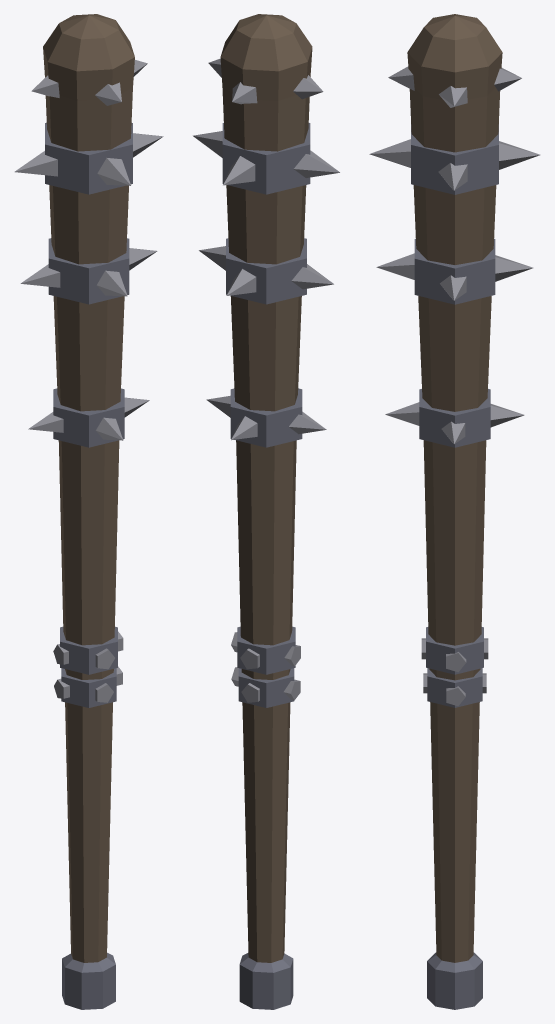
Rendered from hammer_hammer_16.glb.
3 renders of one model, left to right at view 1: azimuth 30°, elevation 25°; view 2: azimuth 150°, elevation 25°; view 3: azimuth 270°, elevation 25°, orthographic.
Parts seen in each view (by area): view 1: hammer_16; view 2: hammer_16; view 3: hammer_16.
Part boxes in pixels (left/top/right/bottom): hammer_16: left=14, top=14, right=163, bottom=1009; hammer_16: left=193, top=14, right=339, bottom=1009; hammer_16: left=369, top=14, right=540, bottom=1009.
Size of the model in its own units: 13.82 by 87.67 by 13.82.
Materials: 1 (1 with a texture image).
